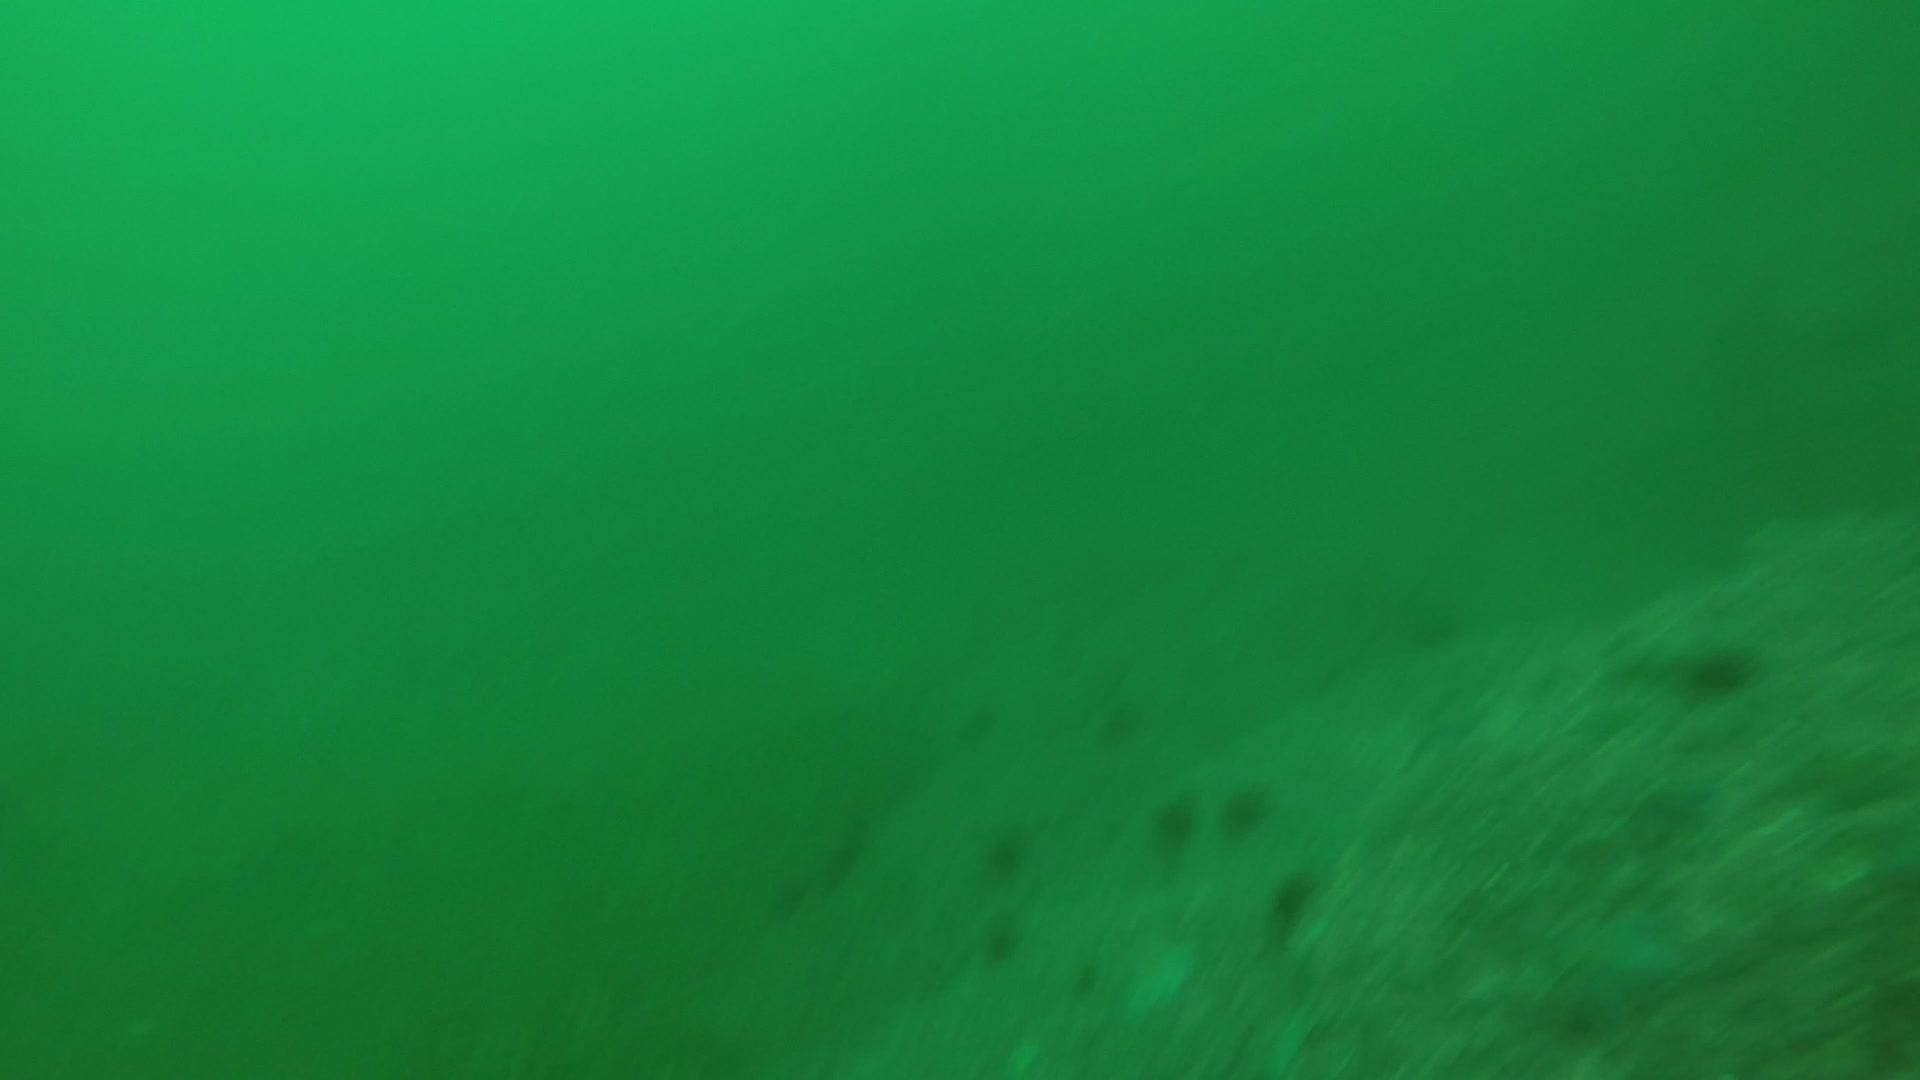echinus: (1676, 636, 1759, 700), (1265, 868, 1320, 932), (1146, 793, 1201, 855), (976, 823, 1034, 881), (1217, 781, 1274, 837), (978, 916, 1025, 967)
starfish: (1520, 891, 1683, 1025), (1116, 935, 1200, 1025)
